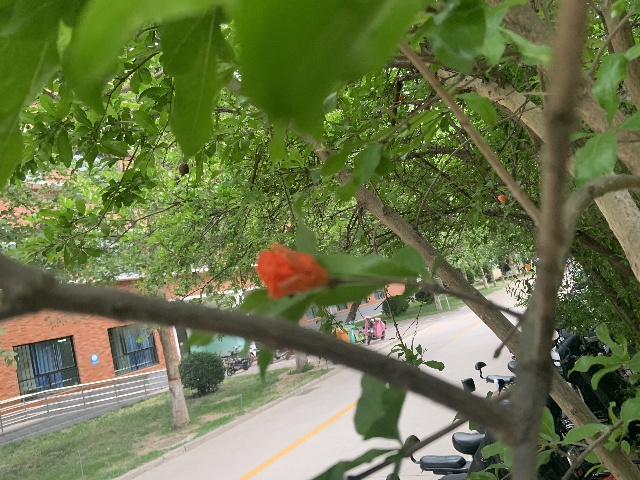bud: (497, 195, 506, 201)
flower: (256, 243, 329, 300), (398, 96, 402, 100)
